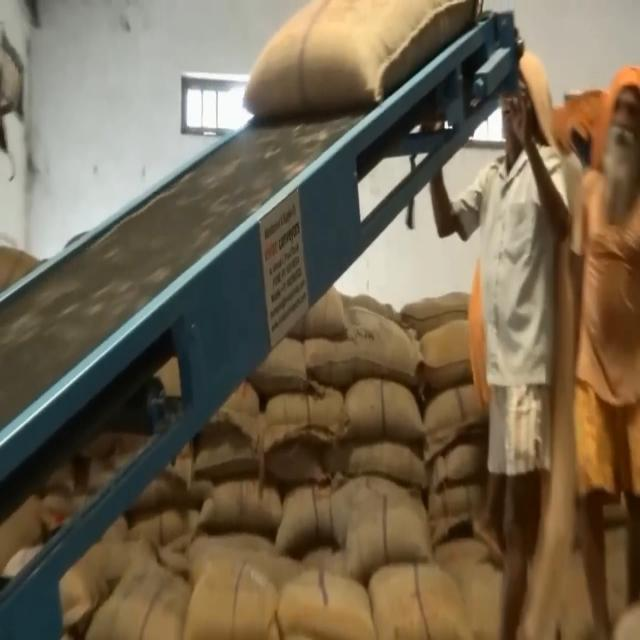gunny_bag: (242, 0, 487, 125)
